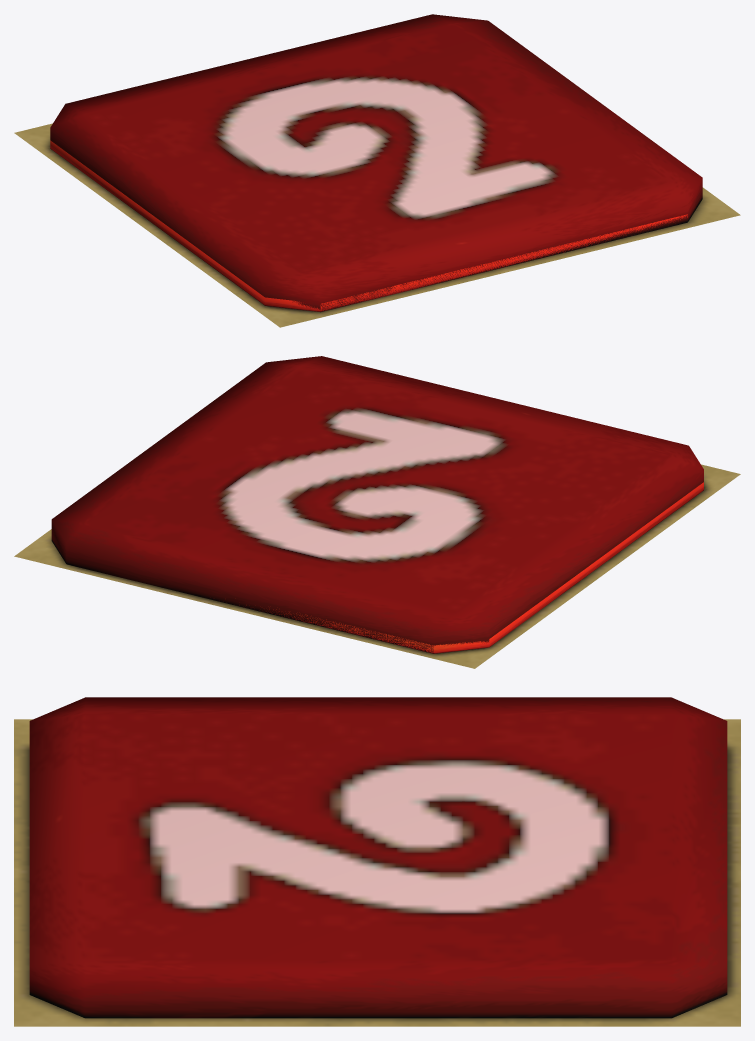
The model's file is D-BoutonRouge.FBX.
3 renders of one model, top to bottom at view 1: azimuth 30°, elevation 25°; view 2: azimuth 150°, elevation 25°; view 3: azimuth 270°, elevation 25°, orthographic. The views are drawn at different scales.
Parts seen in each view (by area): view 1: D-BoutonRougeOff, D-BoutonRougeOn; view 2: D-BoutonRougeOff, D-BoutonRougeOn; view 3: D-BoutonRougeOff.
Part boxes in pixels (box(x1,y1,x2,y2)): D-BoutonRougeOff: box(14, 14, 740, 327); D-BoutonRougeOn: box(50, 140, 687, 311); D-BoutonRougeOff: box(14, 356, 740, 668); D-BoutonRougeOn: box(239, 482, 703, 653); D-BoutonRougeOff: box(14, 697, 740, 1026).
Bounding box in the file's own units: 2 × 0.112 × 2.
